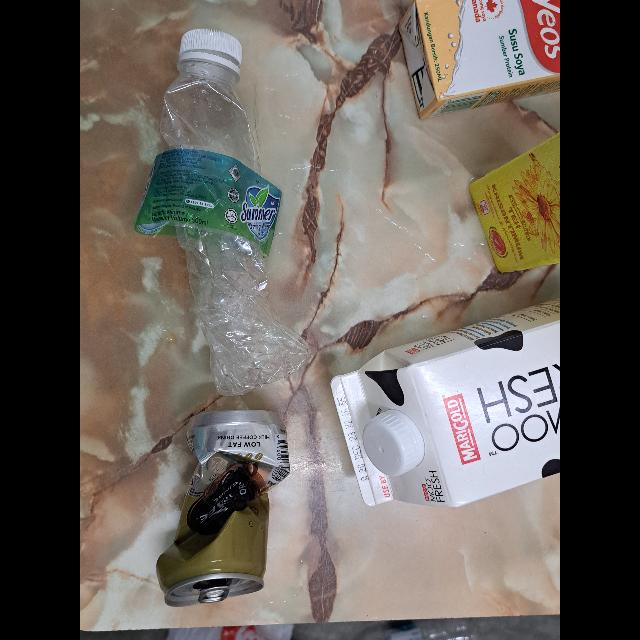aba de lata: (197, 586, 230, 604)
caixinha: (332, 298, 560, 507), (400, 0, 560, 120), (466, 133, 560, 275)
garrafa plástica: (135, 66, 313, 397)
lata: (156, 409, 290, 606)
tampa plástica: (364, 412, 422, 478), (178, 29, 244, 71)
